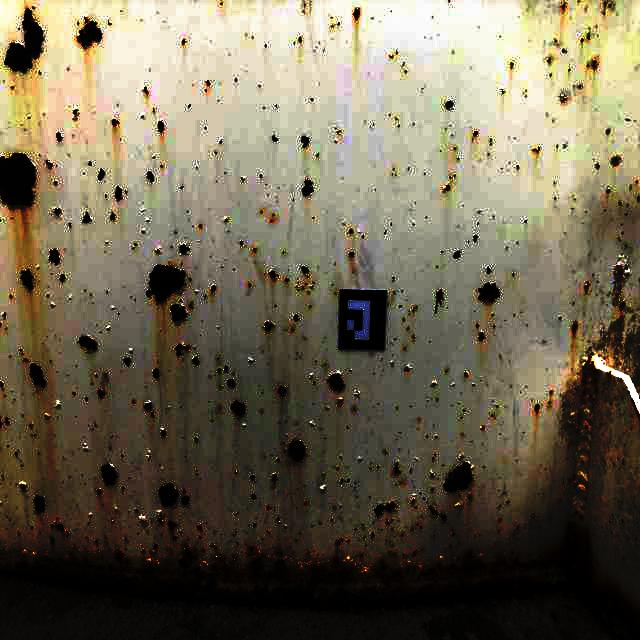Corrosion: (0, 508, 640, 640), (3, 8, 44, 73), (0, 152, 37, 209), (146, 264, 187, 304), (443, 461, 474, 494), (76, 15, 103, 49), (580, 358, 603, 397), (614, 259, 630, 300), (284, 438, 308, 464), (158, 482, 179, 509), (478, 282, 500, 305), (374, 500, 398, 520), (29, 362, 46, 388), (170, 302, 189, 325), (102, 463, 118, 486), (327, 372, 345, 392), (78, 335, 97, 353), (230, 399, 246, 419), (20, 268, 33, 291), (33, 494, 46, 515), (434, 288, 444, 313), (630, 397, 640, 421), (175, 343, 190, 358), (301, 179, 314, 196), (48, 248, 60, 266), (574, 480, 588, 492), (114, 185, 123, 201), (179, 243, 191, 255), (167, 520, 177, 534), (428, 505, 439, 517), (180, 495, 191, 507), (82, 211, 92, 224), (352, 6, 361, 20), (54, 523, 65, 534), (277, 385, 287, 397), (393, 460, 401, 475), (301, 135, 309, 149), (97, 167, 105, 181), (264, 320, 274, 331), (157, 120, 165, 133), (445, 100, 454, 111), (71, 108, 79, 120), (147, 171, 155, 183), (157, 512, 164, 525), (227, 378, 236, 388), (271, 473, 277, 488), (439, 512, 448, 522), (143, 401, 152, 411), (613, 156, 622, 166), (192, 356, 200, 367), (45, 158, 53, 169), (152, 368, 160, 379), (97, 388, 105, 399), (123, 357, 131, 368), (55, 132, 62, 143), (301, 265, 309, 274), (571, 322, 577, 334), (577, 411, 581, 429), (111, 117, 119, 126), (49, 536, 55, 548), (20, 482, 27, 492), (592, 58, 599, 68), (293, 314, 301, 322), (568, 475, 576, 483), (53, 207, 61, 215), (453, 250, 460, 259), (606, 370, 613, 379), (486, 265, 492, 275), (110, 211, 116, 221), (59, 273, 65, 283), (160, 428, 166, 438), (562, 0, 568, 10), (269, 270, 276, 278), (210, 285, 217, 293), (196, 524, 203, 532), (210, 543, 218, 550), (533, 145, 541, 152), (479, 331, 485, 340), (271, 135, 278, 142), (561, 93, 568, 100), (0, 415, 3, 430), (445, 185, 451, 192), (251, 493, 257, 500), (172, 535, 178, 542), (96, 489, 102, 496), (337, 400, 344, 406), (65, 530, 70, 538), (621, 302, 626, 310), (143, 86, 148, 94), (371, 531, 375, 540), (266, 506, 272, 512), (154, 248, 160, 254), (224, 365, 229, 372), (217, 367, 222, 374), (473, 235, 478, 242), (535, 404, 540, 411), (250, 474, 255, 481), (411, 305, 416, 312), (5, 417, 9, 425), (349, 252, 355, 257), (473, 130, 478, 136), (94, 540, 99, 546), (481, 426, 486, 432), (336, 128, 342, 133), (411, 498, 415, 505), (298, 36, 302, 43), (107, 17, 111, 24), (150, 412, 155, 417), (218, 137, 223, 142), (349, 228, 353, 234), (88, 161, 92, 167), (253, 522, 257, 528), (85, 396, 89, 402), (182, 38, 186, 44), (188, 302, 192, 308), (452, 529, 455, 536), (0, 381, 3, 388), (469, 495, 472, 502), (490, 137, 493, 144), (512, 61, 515, 68), (588, 31, 591, 38), (285, 277, 289, 282), (464, 372, 468, 377), (582, 497, 587, 501), (29, 423, 33, 428), (360, 555, 364, 560), (502, 89, 506, 94), (206, 79, 210, 84), (22, 358, 27, 362), (103, 373, 107, 378), (195, 436, 198, 442), (141, 549, 145, 553), (50, 524, 54, 528), (346, 480, 350, 484), (240, 240, 243, 245), (449, 544, 452, 549), (183, 488, 186, 493), (597, 163, 600, 168), (621, 519, 624, 523), (199, 535, 202, 539), (135, 509, 138, 513), (122, 486, 125, 490), (73, 391, 76, 395), (87, 521, 90, 525), (15, 452, 18, 456), (401, 534, 404, 538), (236, 512, 239, 515), (623, 557, 625, 561), (620, 377, 622, 381), (628, 390, 630, 394), (420, 526, 422, 529), (254, 480, 256, 483), (180, 531, 182, 534)
